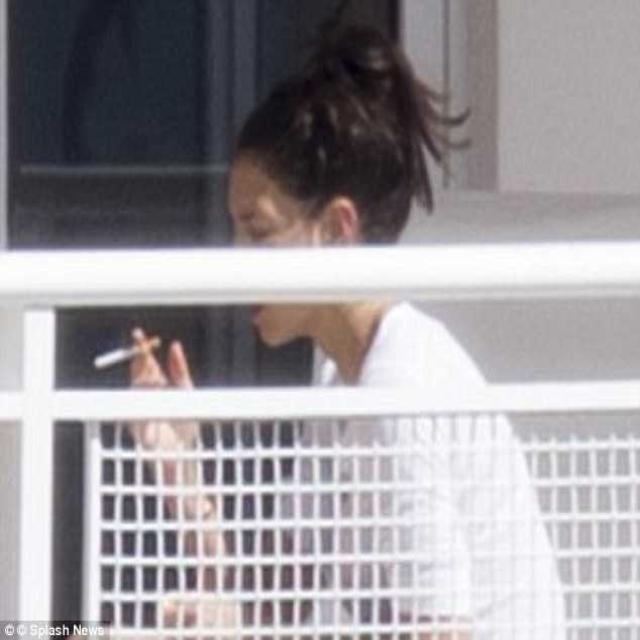Smooking: (91, 327, 167, 379)
